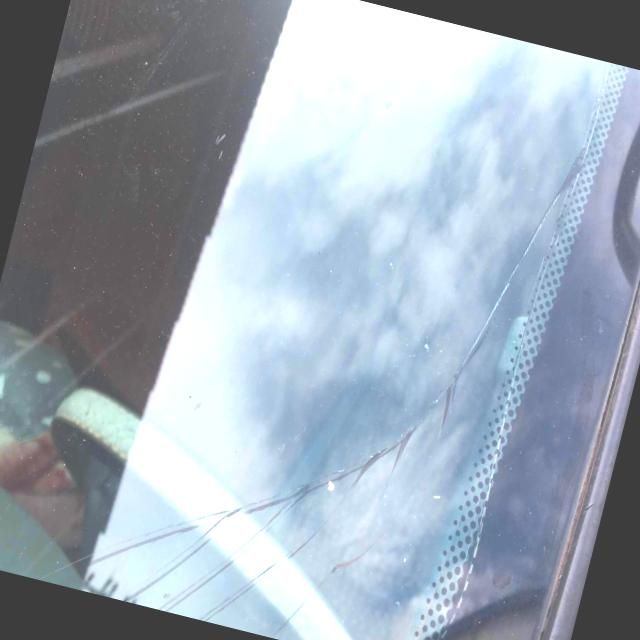Fissure: (0, 11, 596, 640), (159, 423, 377, 640), (246, 405, 422, 640), (0, 445, 228, 620), (123, 457, 308, 638), (70, 472, 237, 622)
